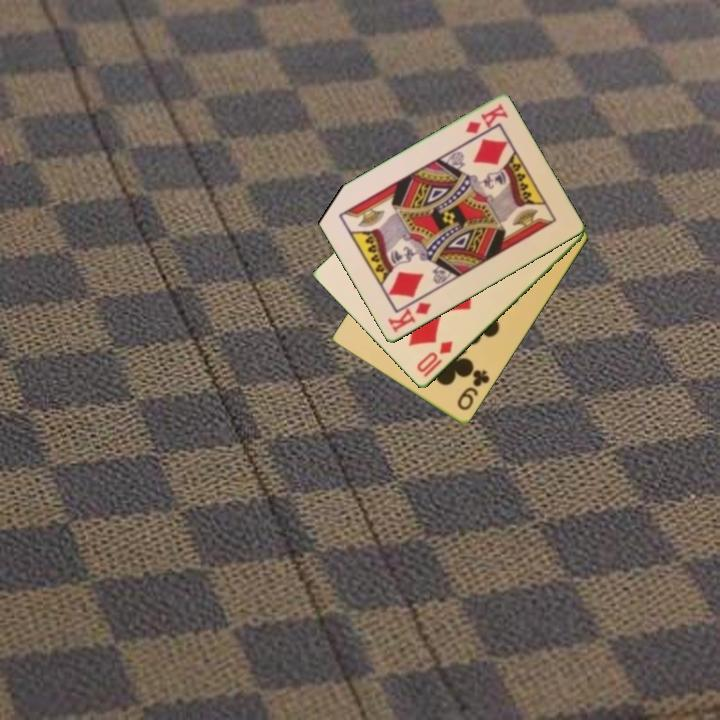10d: (413, 337, 456, 381)
9c: (454, 366, 493, 414)
Kd: (384, 299, 434, 336), (462, 101, 510, 137)
